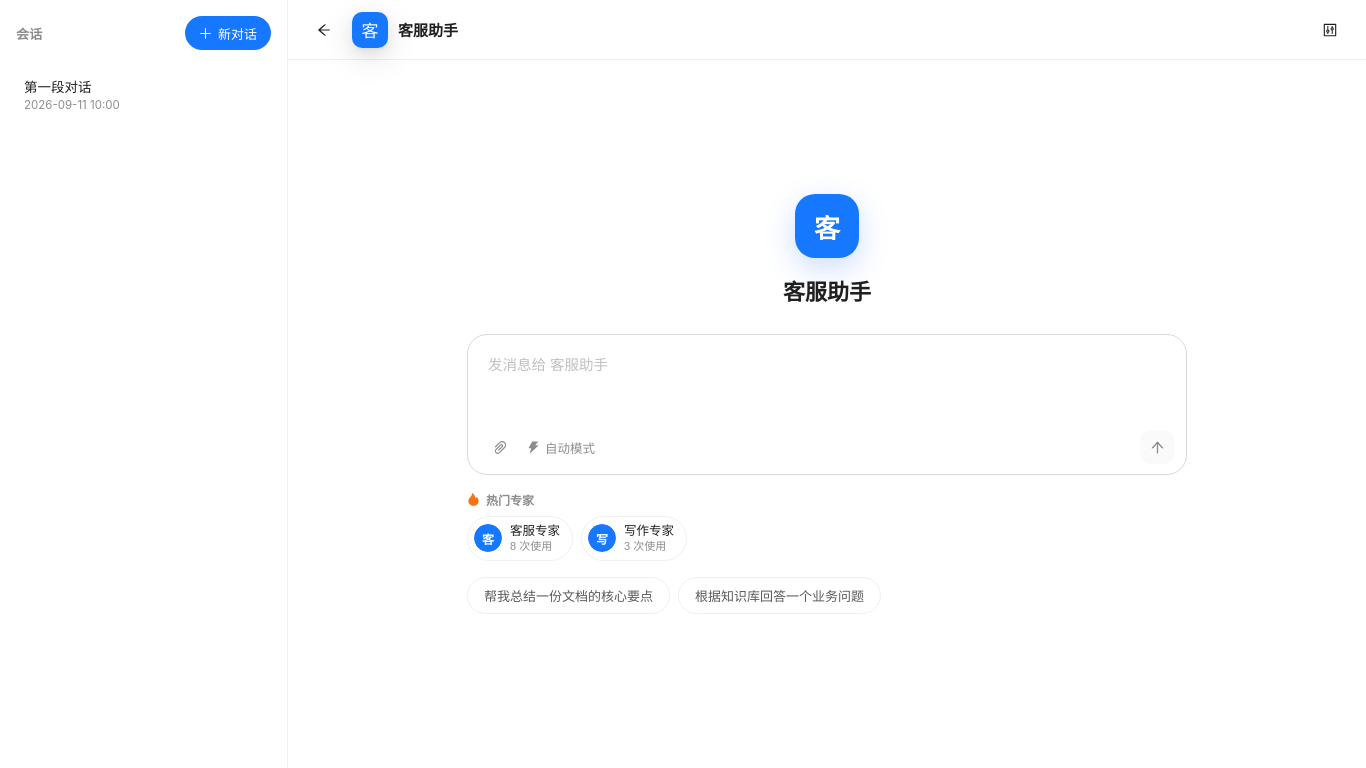
it: AppChat（Agent 应用对话页） › 发送消息时创建会话并流式追加回复，切换为对话布局
The width and height of the screenshot is (1366, 768).
Expected: the text "第一段对话" is shown, [24,76,92,96]
In the text box with placeholder "发消息给 客服助手": point(829, 389) [484,348,1174,430], type "在吗"
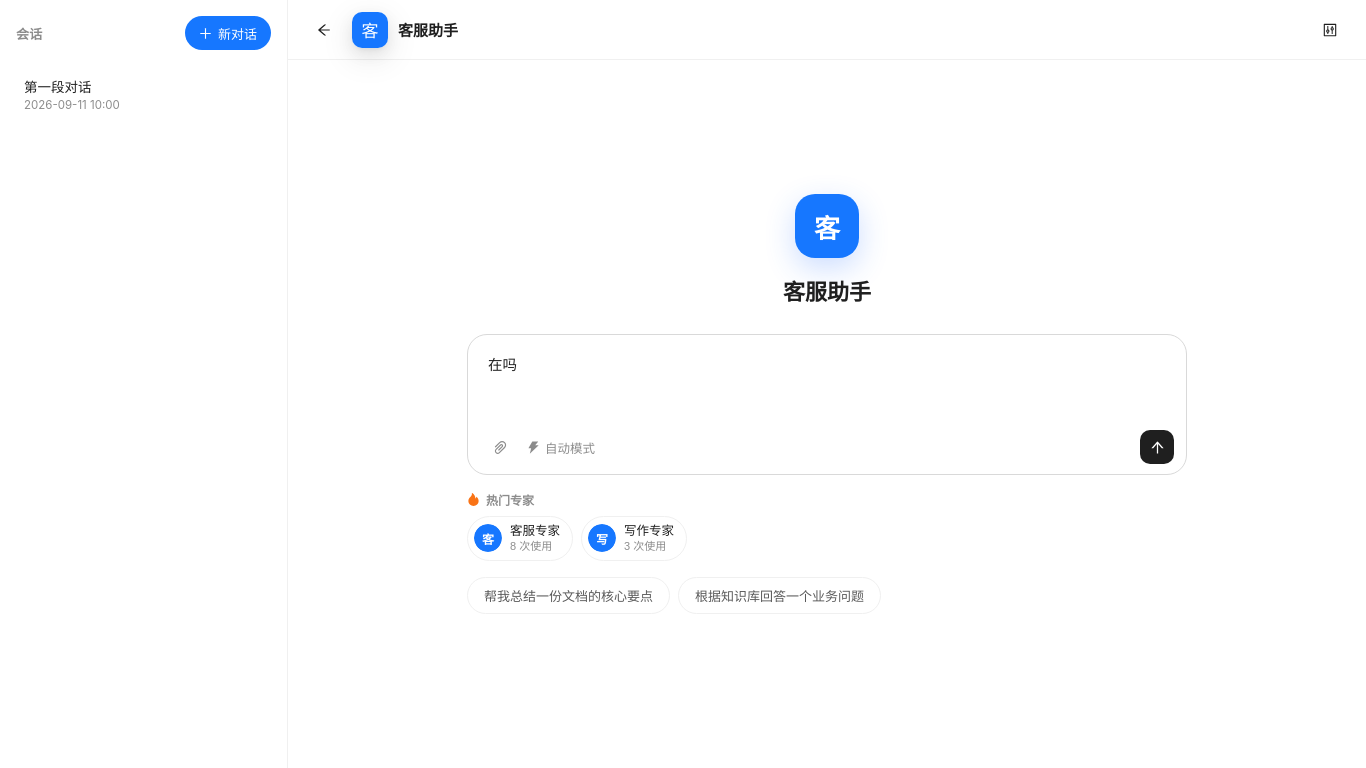
Click the button named "发送": point(1157, 447) [1140,430,1174,464]
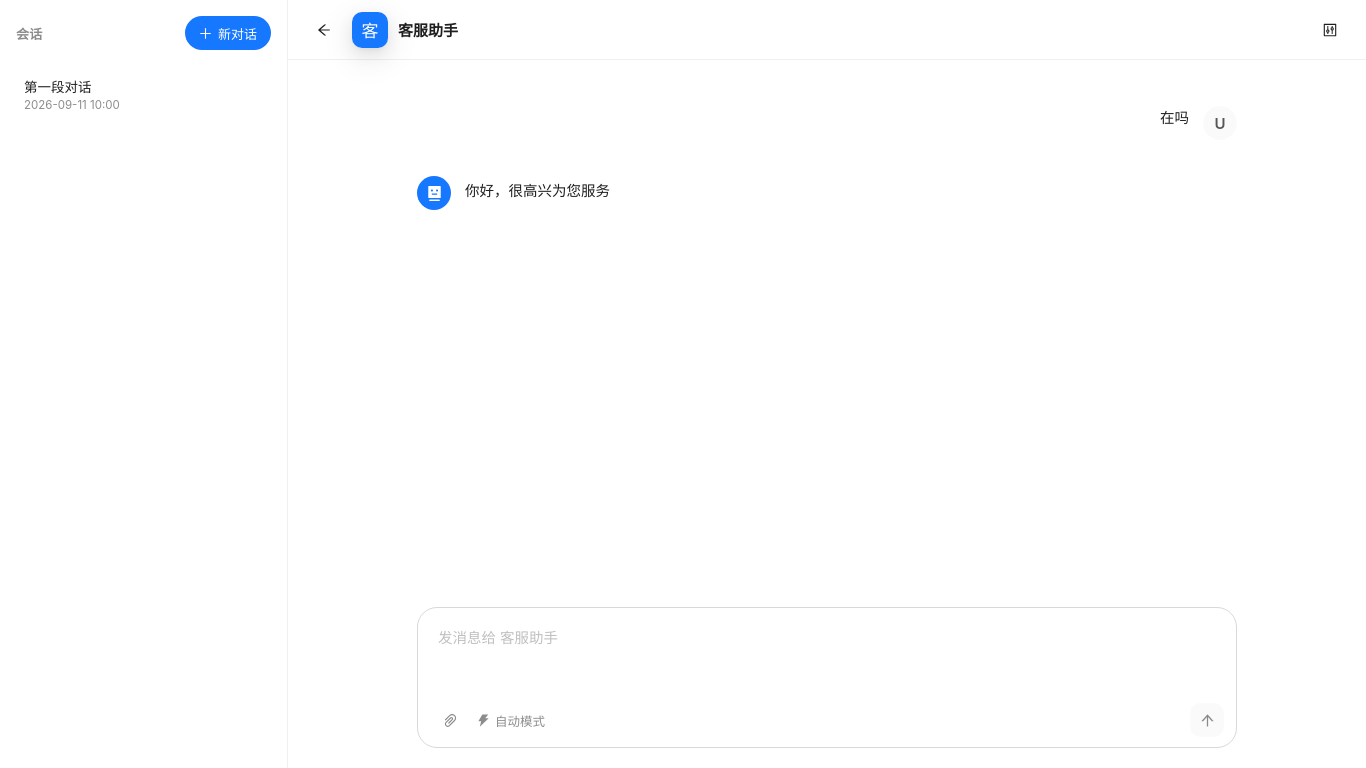
Expected: the text "你好，很高兴为您服务" is shown, [465,179,610,204]
Expected: the text with class "moai-chat__bubble" reads "在吗", [1160,109,1189,126]
